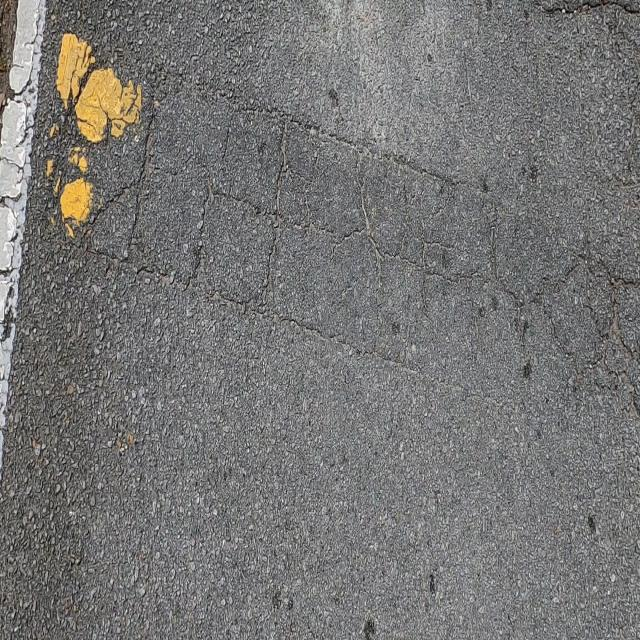Retak-Buaya: (38, 45, 640, 421)
Retak-Melintang: (541, 0, 640, 20)
